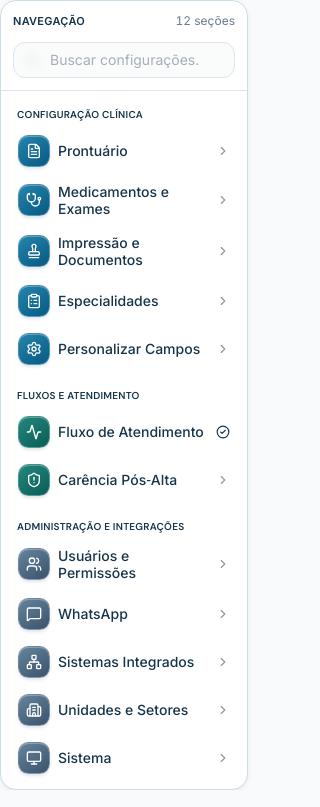
Test case: homologação DOM das seções de configuração › seleciona cada uma das doze seções e mantém apenas uma ativa
This screenshot has width=320, height=807.
Earlier steps of the test are not shown.
Expected: the button "Fluxo de Atendimento" is marked as current, x1=9 y1=408 x2=239 y2=454
Click the button "Carência Pós‑Alta" at (124, 480), box x1=9 y1=456 x2=239 y2=502
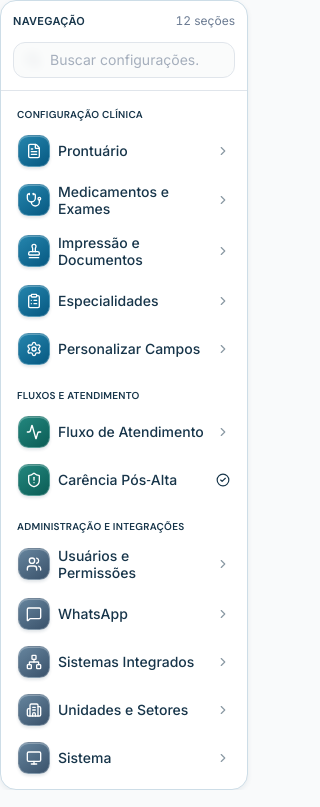
Now the button "Carência Pós‑Alta" is marked as current, box x1=9 y1=456 x2=239 y2=502
Click the button "Usuários e Permissões" at (124, 564), box x1=9 y1=540 x2=239 y2=588
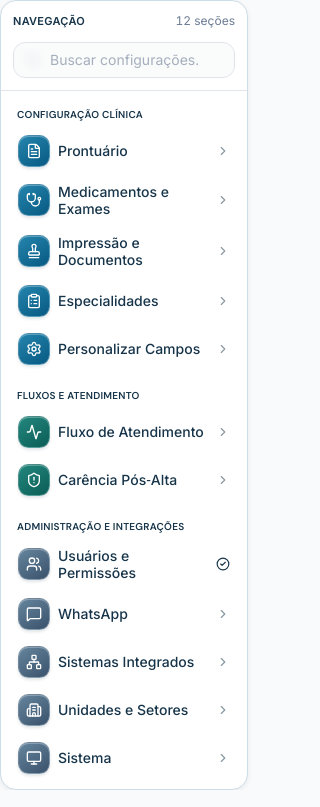
Now the button "Usuários e Permissões" is marked as current, box x1=9 y1=540 x2=239 y2=588
Click the button "WhatsApp" at (124, 614), box x1=9 y1=590 x2=239 y2=636
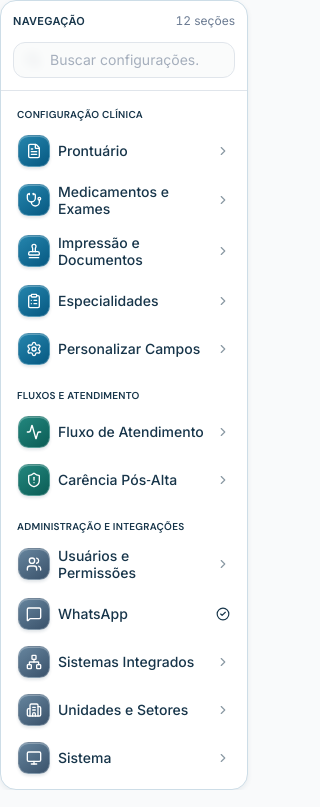
Now the button "WhatsApp" is marked as current, box x1=9 y1=590 x2=239 y2=636
Click the button "Sistemas Integrados" at (124, 662), box x1=9 y1=638 x2=239 y2=684
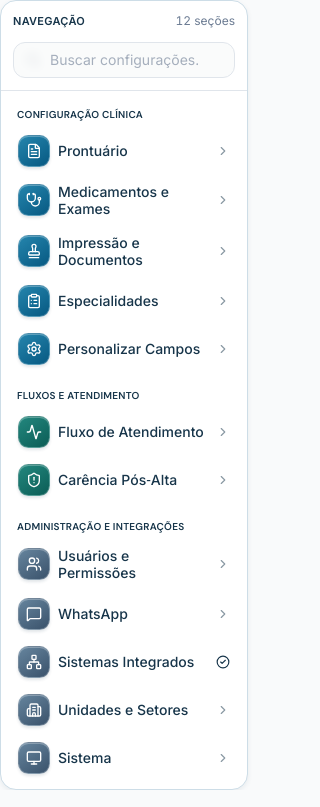
Now the button "Sistemas Integrados" is marked as current, box x1=9 y1=638 x2=239 y2=684
Click the button "Unidades e Setores" at (124, 710), box x1=9 y1=686 x2=239 y2=732
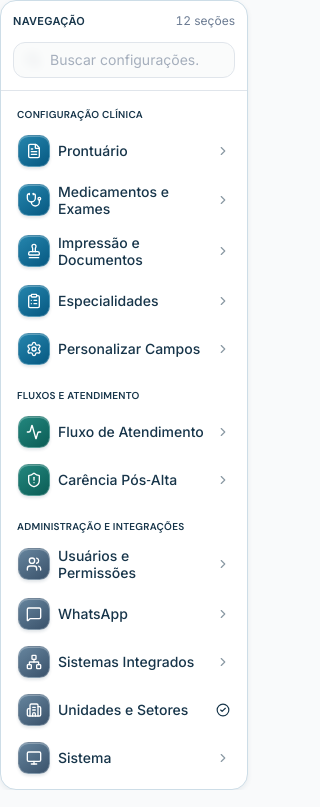
Now the button "Unidades e Setores" is marked as current, box x1=9 y1=686 x2=239 y2=732
Click the button "Sistema" at (124, 758), box x1=9 y1=734 x2=239 y2=780
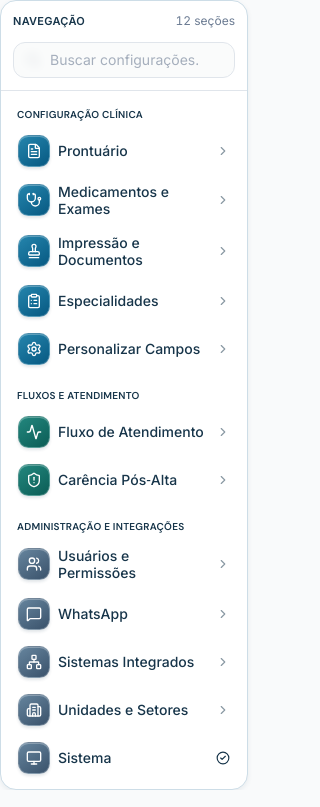
Now the button "Sistema" is marked as current, box x1=9 y1=734 x2=239 y2=780
